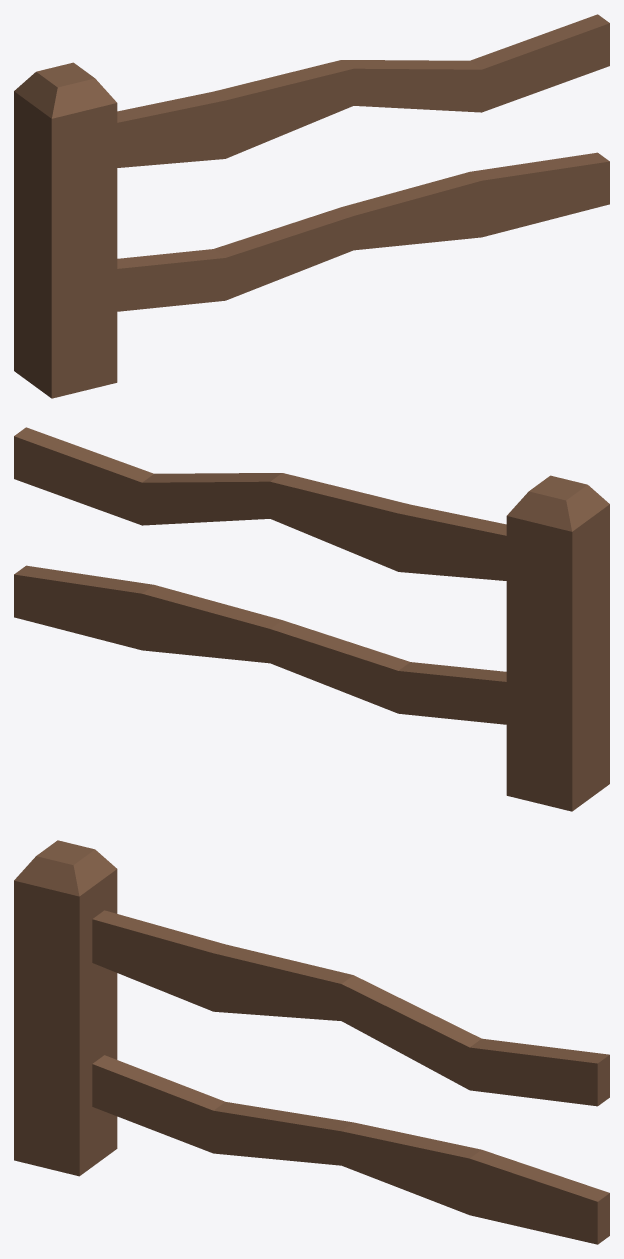
The model's file is WoodFence3.fbx.
The picture shows the model from 3 angles, top to bottom: view 1: azimuth 30°, elevation 25°; view 2: azimuth 150°, elevation 25°; view 3: azimuth 330°, elevation 25°; orthographic projection.
Parts seen in each view (by area): view 1: Cube.002; view 2: Cube.002; view 3: Cube.002.
Part boxes in pixels (x1=…): Cube.002: x1=14, y1=14, x2=609, y2=398; Cube.002: x1=14, y1=427, x2=609, y2=811; Cube.002: x1=14, y1=840, x2=609, y2=1244.
Bounding box in the file's own units: 155 × 78.15 × 17.75.
